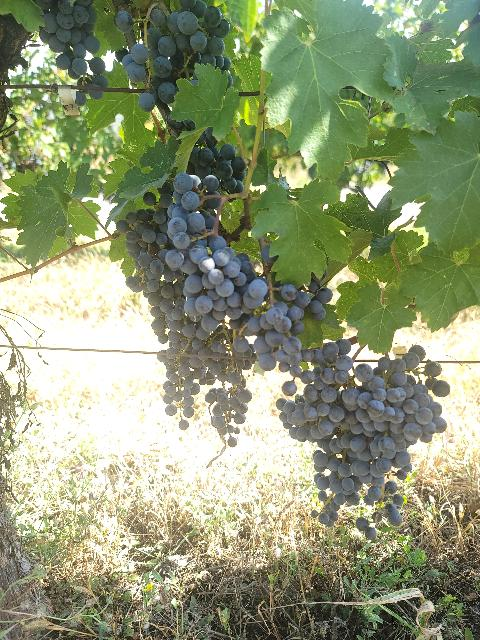grapes: (311, 356, 401, 528), (169, 172, 268, 320), (122, 0, 231, 111), (365, 345, 450, 442), (276, 339, 352, 441), (35, 0, 109, 88), (205, 335, 254, 448), (248, 284, 310, 370), (160, 341, 200, 418)
